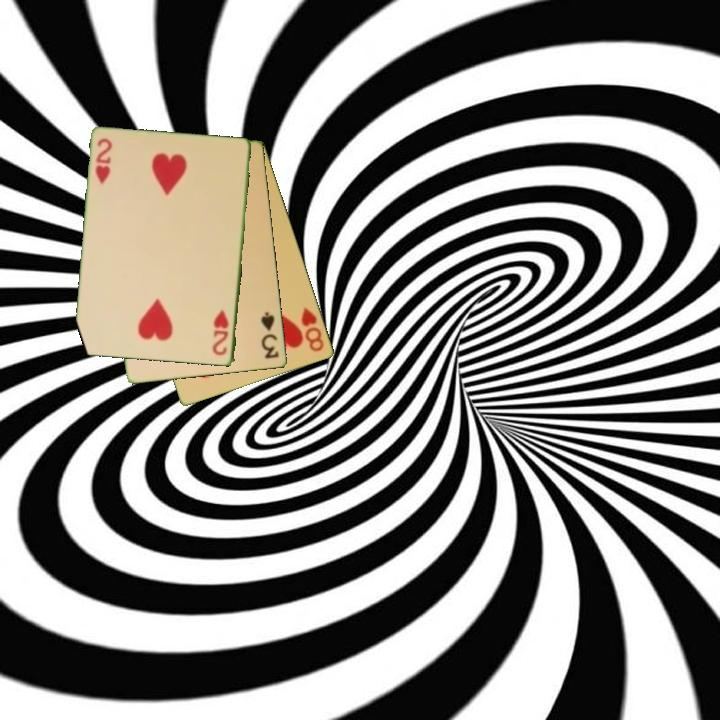2h: (209, 306, 232, 358), (92, 135, 115, 187)
3s: (258, 309, 282, 362)
8h: (298, 304, 327, 355)
